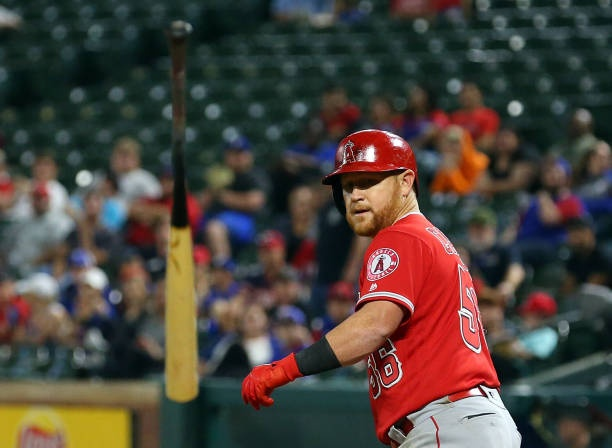bita: (163, 21, 203, 397)
